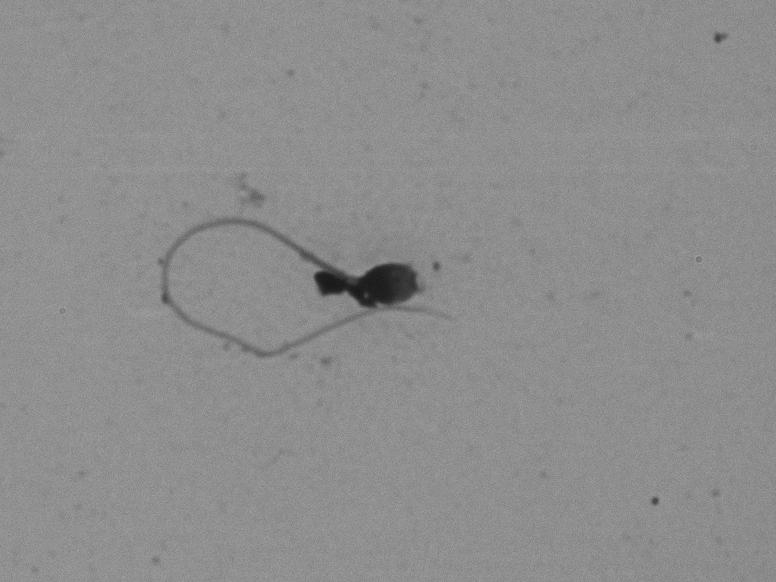Abnormal: (122, 194, 490, 400)
